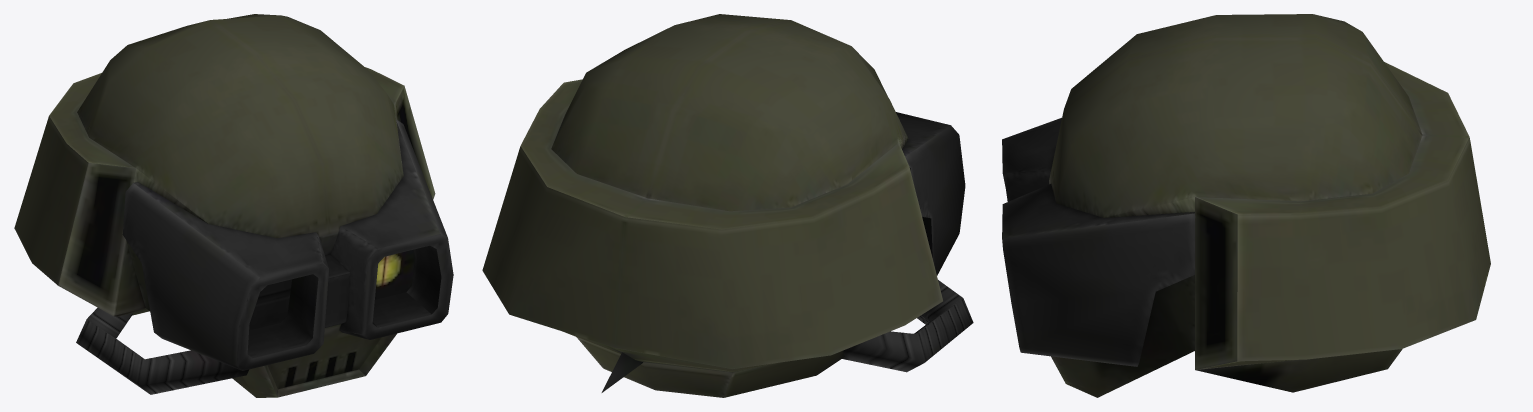
3 renders of one model, left to right at view 1: azimuth 30°, elevation 25°; view 2: azimuth 150°, elevation 25°; view 3: azimuth 270°, elevation 25°, orthographic. The views are drawn at different scales.
Parts seen in each view (by area): view 1: c05_100_00 head; view 2: c05_100_00 head; view 3: c05_100_00 head.
Part boxes in pixels (bbox=[...]): c05_100_00 head: bbox=[14, 14, 453, 397]; c05_100_00 head: bbox=[482, 14, 973, 397]; c05_100_00 head: bbox=[1002, 14, 1490, 397].
Bounding box in the file's own units: 2.73 × 2.03 × 2.88.
Materials: 1 (1 with a texture image).
